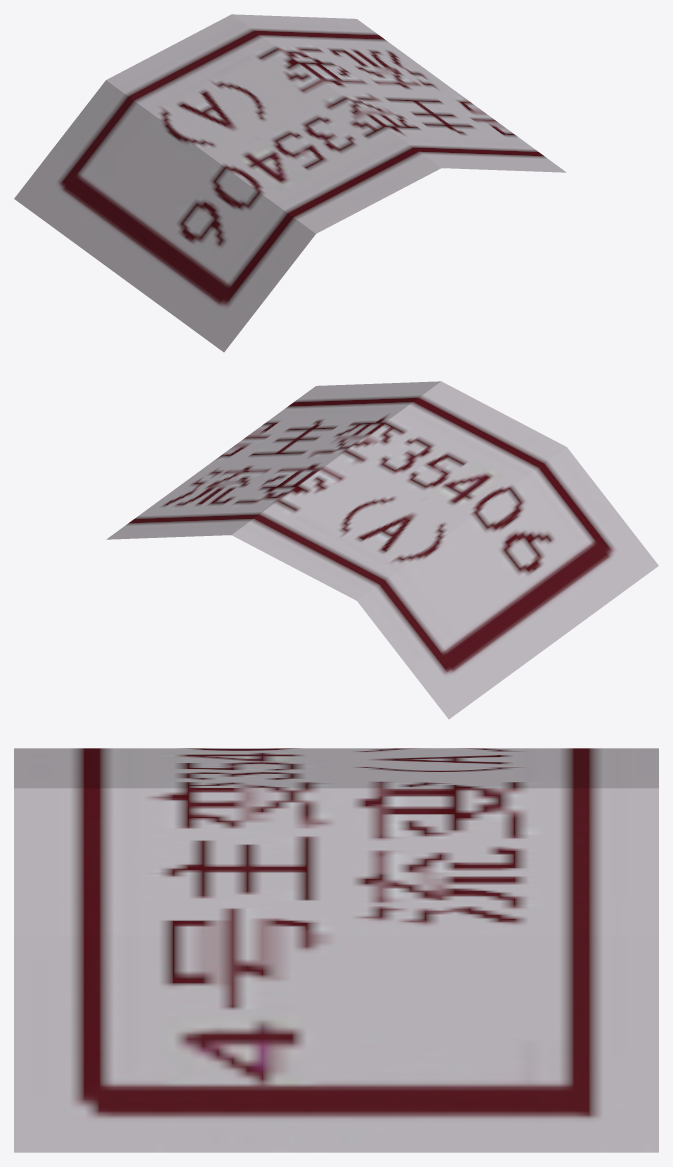
Rendered from mp-0251-geode.glb.
3 renders of one model, top to bottom at view 1: azimuth 30°, elevation 25°; view 2: azimuth 150°, elevation 25°; view 3: azimuth 270°, elevation 25°, orthographic. The views are drawn at different scales.
Parts seen in each view (by area): view 1: Node; view 2: Node; view 3: Node.
Part boxes in pixels (<box>): Node: <box>14,14,566,352</box>; Node: <box>106,381,658,719</box>; Node: <box>14,748,658,1152</box>.
Size of the model in its own units: 0.3069 by 0.0886 by 0.2568.
Materials: 1 (1 with a texture image).
